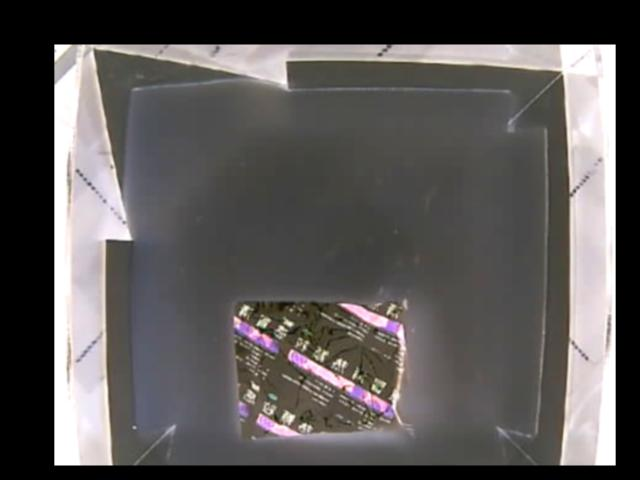Medicine: (234, 291, 413, 442)
